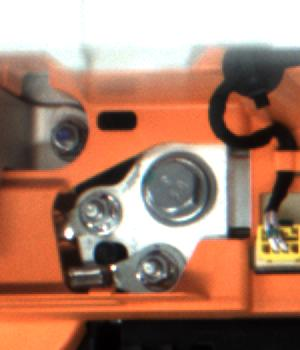nut_b: (135, 141, 223, 229)
